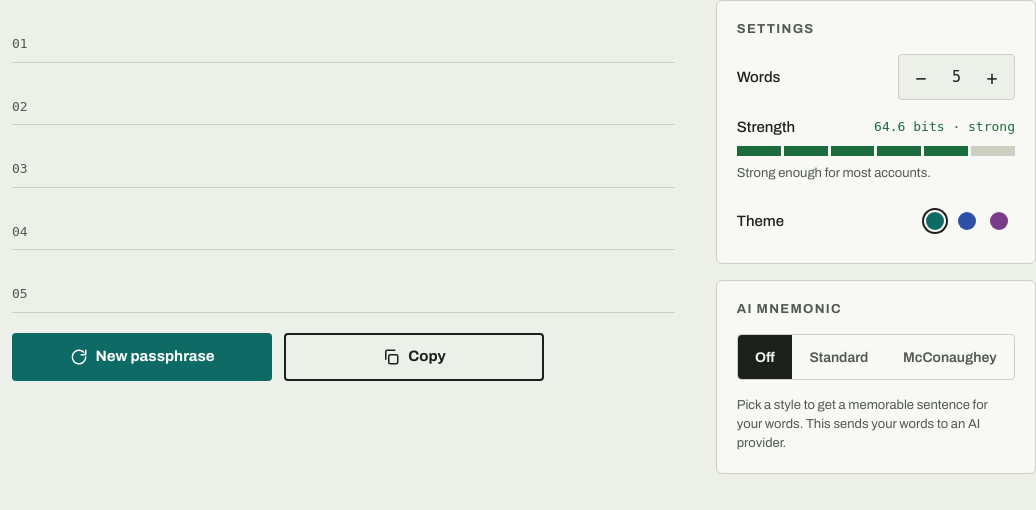
Test: PassphraseGenerator › changes the word count, rerolls and updates the strength
Click the button named "More words": (992, 77) [970,55,1014,99]
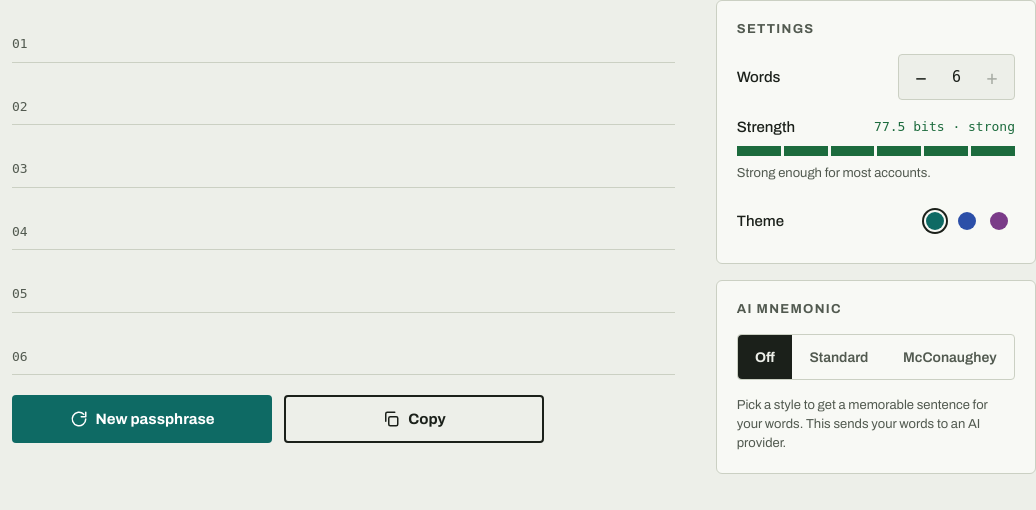
Expected: the text "77.5 bits · strong" is shown, [874,117,1015,137]
Expected: the button named "More words" is disabled, [970,55,1014,99]
Click the button named "Fewer words": (921, 77) [899,55,943,99]
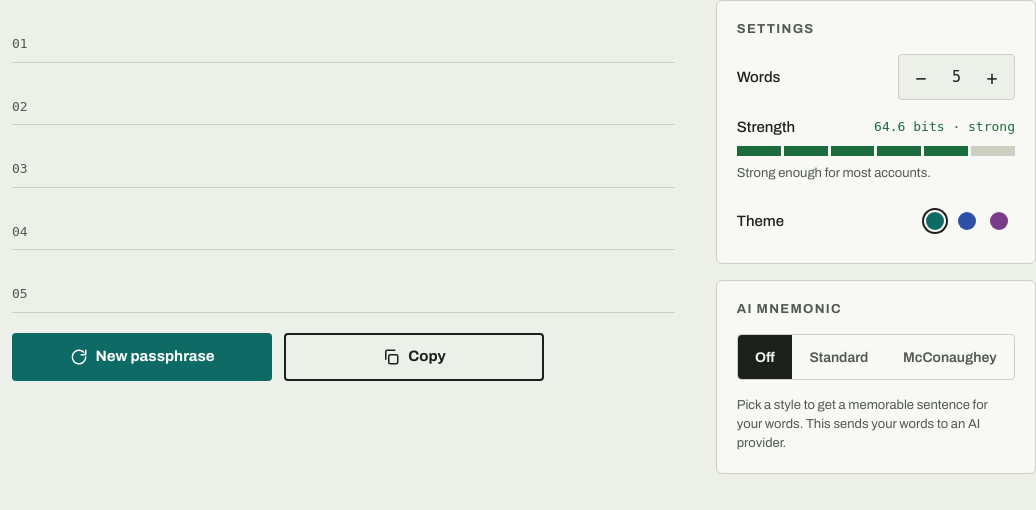
Click the button named "Fewer words": (921, 77) [899,55,943,99]
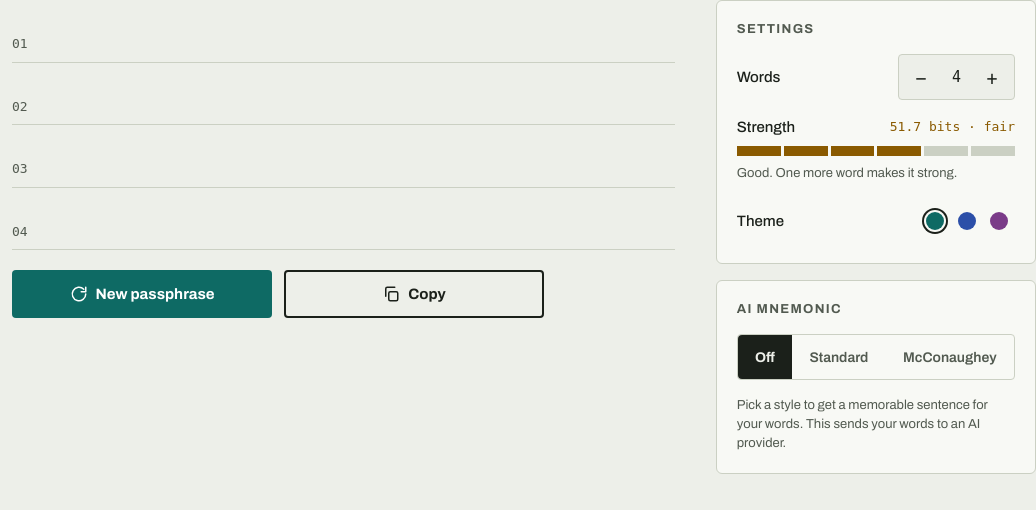
Click the button named "Fewer words": (921, 77) [899,55,943,99]
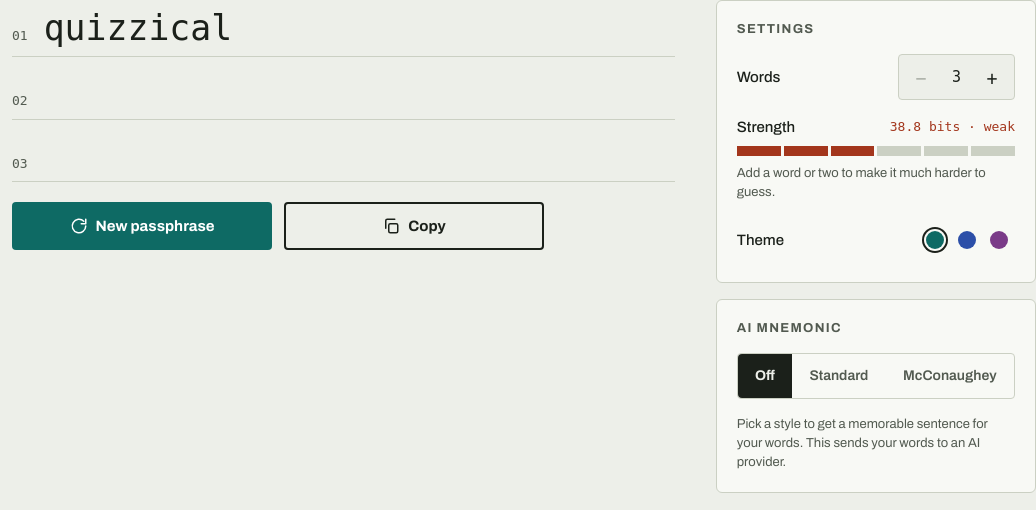
Expected: the text "38.8 bits · weak" is shown, [890,117,1015,137]
